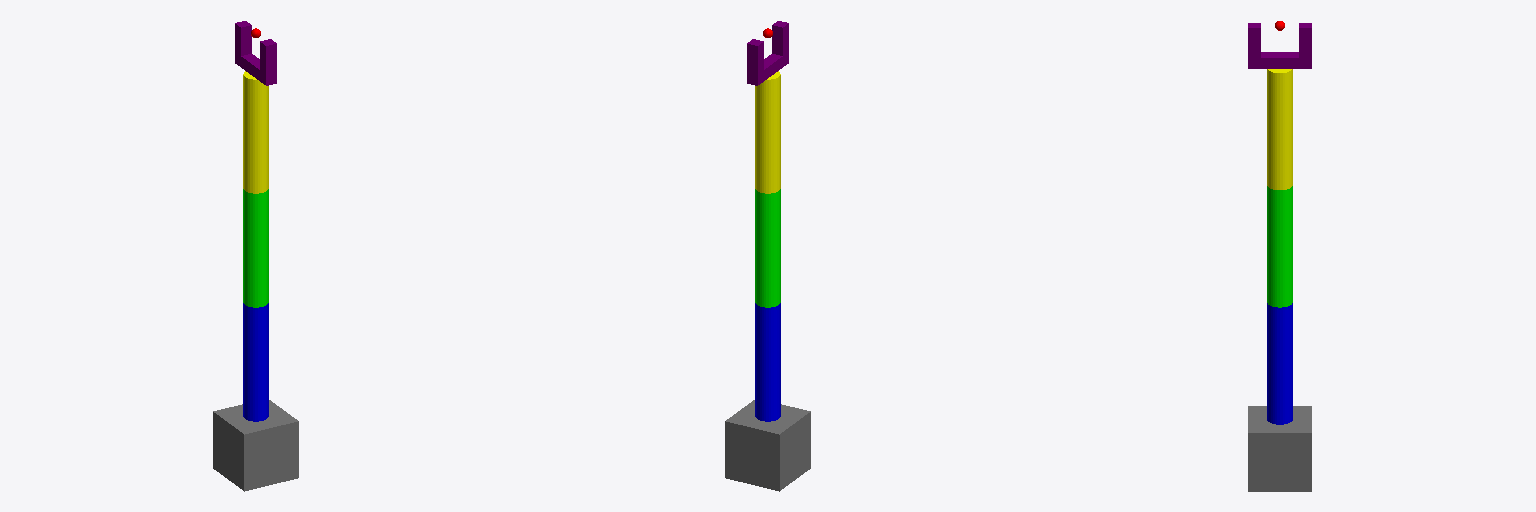
URDF robot description (prrr_manipulator):
<?xml version="1.0"?>
<robot name="prrr_manipulator">

  <!-- Base Link -->
  <link name="base_link">
    <visual>
      <origin xyz="0 0 0" rpy="0 0 0"/>
      <geometry>
        <box size="0.25 0.25 0.25"/>
      </geometry>
      <material name="gray">
        <color rgba="0.5 0.5 0.5 1"/>
      </material>
    </visual>
  </link>

  <!-- Joint -->
  <joint name="revolute1" type="revolute">
    <parent link="base_link"/>
    <child link="link2"/>
    <origin xyz="0 0 0.125" rpy="0 0 0"/>
    <axis xyz="1 0 0"/>
    <limit lower="-3.14" upper="3.14" effort="10" velocity="1"/>
  </joint>

  <!-- Link 2 -->
  <link name="link2">
    <visual>
      <origin xyz="0 0 0.25" rpy="0 0 0"/>
      <geometry>
        <cylinder length="0.5" radius="0.05"/>
      </geometry>
      <material name="blue">
        <color rgba="0 0 1 1"/>
      </material>
    </visual>
    <collision>
      <origin xyz="0 0 0.25" rpy="0 0 0"/>
      <geometry>
        <cylinder length="0.5" radius="0.05"/>
      </geometry>
    </collision>
  </link>

  <!-- Joint -->
  <joint name="revolute2" type="revolute">
    <parent link="link2"/>
    <child link="link3"/>
    <origin xyz="0 0 0.5" rpy="0 0 0"/>
    <axis xyz="1 0 0"/>
    <limit lower="-3.14" upper="3.14" effort="10" velocity="1"/>
  </joint>

  <!-- Link 2 -->
  <link name="link3">
    <visual>
      <origin xyz="0 0 0.25" rpy="0 0 0"/>
      <geometry>
        <cylinder length="0.5" radius="0.05"/>
      </geometry>
      <material name="green">
        <color rgba="0 1 0 1"/>
      </material>
    </visual>
    <collision>
      <origin xyz="0 0 0.25" rpy="0 0 0"/>
      <geometry>
        <cylinder length="0.5" radius="0.05"/>
      </geometry>
    </collision>
  </link>

  <!-- Joint -->
  <joint name="revolute3" type="revolute">
    <parent link="link3"/>
    <child link="link4"/>
    <origin xyz="0 0 0.5" rpy="0 0 0"/>
    <axis xyz="1 0 0"/>
    <limit lower="-3.14" upper="3.14" effort="10" velocity="1"/>
  </joint>

  <!-- Link 3 -->
  <link name="link4">
    <visual>
      <origin xyz="0 0 0.25" rpy="0 0 0"/>
      <geometry>
        <cylinder length="0.5" radius="0.05"/>
      </geometry>
      <material name="yellow">
        <color rgba="1 1 0 1"/>
      </material>
    </visual>
    <!-- <collision>
      <origin xyz="0 0 0.25" rpy="0 0 0"/>
      <geometry>
        <cylinder length="0.5" radius="0.05"/>
      </geometry>
    </collision> -->
  </link>

  <!-- Joint -->
  <joint name="prismatic1" type="prismatic">
    <parent link="link4"/>
    <child link="prismatic_link"/>
    <origin xyz="0 0 0.005" rpy="0 0 0"/> <!-- There was a collision issue so I had to space this a bit off the previous link -->
    <axis xyz="0 0 1"/>
    <limit lower="-0.5" upper="0.5" effort="10" velocity="1"/>
  </joint>

  <!-- Link 1 -->
  <link name="prismatic_link">
  </link>  
    
  <!-- Joint -->
  <joint name="fixed1" type="fixed">
    <parent link="prismatic_link"/>
    <child link="wrist"/>
    <origin xyz="0 0 0.525" rpy="0 0 0"/>
    <axis xyz="0 0 1"/>
    <limit lower="-3.14" upper="3.14" effort="10" velocity="1"/>
  </joint>

  <!-- Wrist Link -->
  <link name="wrist">
    <visual>
      <origin xyz="0 0 0" rpy="0 0 0"/>
      <geometry>
        <box size="0.05 0.25 0.05"/>
      </geometry>
      <material name="purple">
        <color rgba="0.5 0 0.5 1"/>
      </material>
    </visual>
    <!-- <collision>
      <origin xyz="0 0 0" rpy="0 0 0"/>
      <geometry>
        <box size="0.05 0.25 0.05"/>
      </geometry>
    </collision> -->
  </link>

  <!-- Joint -->
  <joint name="fixed2" type="fixed">
    <parent link="wrist"/>
    <child link="left_finger"/>
    <origin xyz="0 -0.1 0.075" rpy="0 0 0"/>
  </joint>

  <!-- Left Finger Link -->
  <link name="left_finger">
    <visual>
      <origin xyz="0 0 0" rpy="0 0 0"/>
      <geometry>
        <box size="0.05 0.05 0.15"/>
      </geometry>
      <material name="purple">
        <color rgba="0.5 0 0.5 1"/>
      </material>
    </visual>
    <collision>
      <origin xyz="0 0 0" rpy="0 0 0"/>
      <geometry>
        <box size="0.05 0.05 0.15"/>
      </geometry>
    </collision>
  </link>

  <!-- Joint -->
  <joint name="fixed3" type="fixed">
    <parent link="wrist"/>
    <child link="right_finger"/>
    <origin xyz="0 0.1 0.075" rpy="0 0 0"/>
  </joint>

  <!-- Right Finger Link -->
  <link name="right_finger">
    <visual>
      <origin xyz="0 0 0" rpy="0 0 0"/>
      <geometry>
        <box size="0.05 0.05 0.15"/>
      </geometry>
      <material name="purple">
        <color rgba="0.5 0 0.5 1"/>
      </material>
    </visual>
    <collision>
      <origin xyz="0 0 0" rpy="0 0 0"/>
      <geometry>
        <box size="0.05 0.05 0.15"/>
      </geometry>
    </collision>
  </link>

  <!-- Center of gripper -->
  <link name="gripper_center">
    <visual>
      <origin xyz="0 0 0.0" rpy="0 0 0"/>
      <geometry>
        <sphere radius="0.02"/> 
      </geometry>
      <material name="red">
        <color rgba="1 0 0 1"/>
      </material>
    </visual>
  </link>

  <!-- Joint -->
  <joint name="fixed4" type="fixed">
    <parent link="wrist"/>
    <child link="gripper_center"/>
    <origin xyz="0 0 0.15" rpy="0 0 0"/>
  </joint>  

</robot>

--- Facts derived from the render (not from the file) ---
Views: 3 orthographic renders of the robot side by side, from view 1: azimuth 30°, elevation 25°; view 2: azimuth 150°, elevation 25°; view 3: azimuth 270°, elevation 25°.
Robot: prrr_manipulator — 9 links, 8 joints (3 revolute, 1 prismatic, 4 fixed); root link base_link; default pose: all joints at 0.
Links seen in each view (by area): view 1: base_link, link2, link3, link4, left_finger, wrist, right_finger; view 2: base_link, link2, link3, link4, right_finger, wrist, left_finger; view 3: base_link, link4, link3, link2, wrist.
Link boxes in pixels (x1,y1,x2,y2): base_link: [213, 400, 298, 491]; link2: [243, 303, 268, 421]; link3: [243, 189, 268, 307]; link4: [243, 71, 268, 193]; left_finger: [260, 39, 276, 79]; wrist: [235, 53, 276, 85]; right_finger: [235, 21, 251, 56]; base_link: [725, 400, 810, 491]; link2: [755, 303, 780, 421]; link3: [755, 189, 780, 307]; link4: [755, 71, 780, 193]; right_finger: [747, 39, 763, 79]; wrist: [747, 52, 788, 85]; left_finger: [772, 21, 788, 55]; base_link: [1248, 406, 1311, 491]; link4: [1267, 69, 1292, 189]; link3: [1267, 186, 1292, 307]; link2: [1267, 303, 1292, 424]; wrist: [1248, 52, 1311, 68].
Bounding box of the posed robot: 0.25 × 0.25 × 1.95 m (x, y, z).
Geometry: primitives only (box / cylinder / sphere), no mesh files.